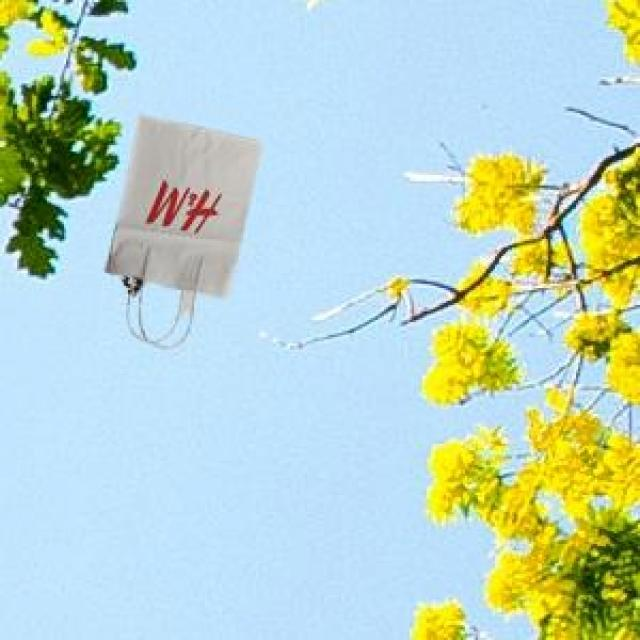Paper_Bag: (103, 112, 260, 319)
